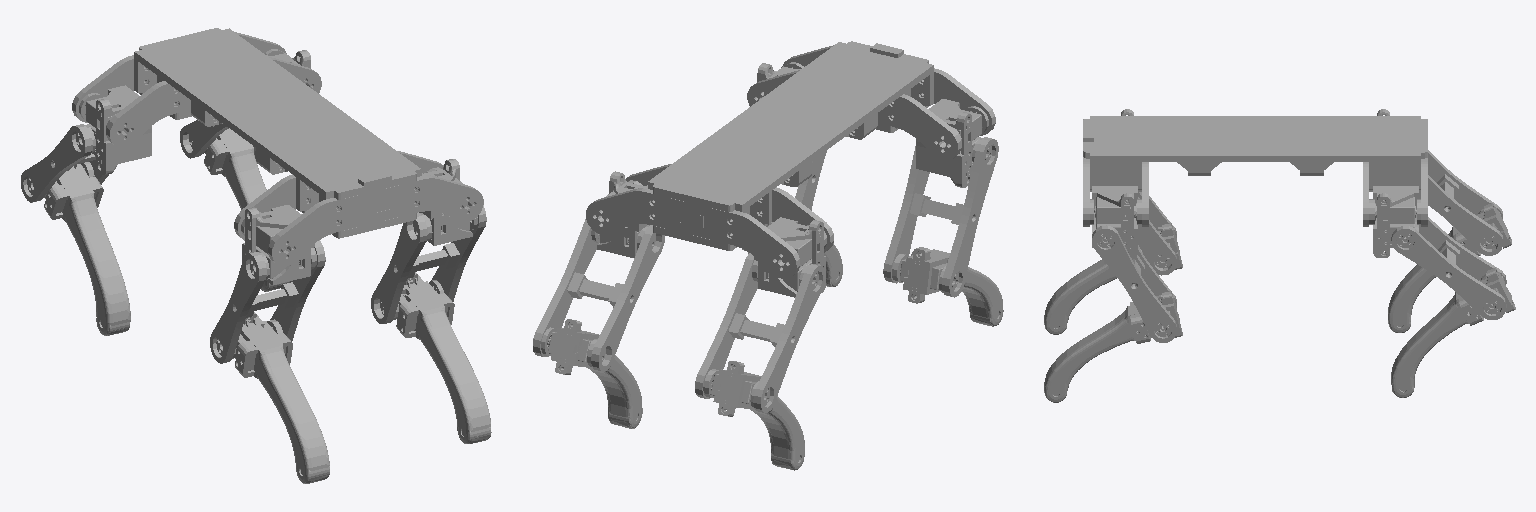
URDF robot description (Robotic_dog):
<?xml version="1.0"?>
<robot name="Robotic_dog">

  <link name="base_link">
    <visual>
      <origin xyz="0 0 0" rpy="0 0 0" />
      <geometry>
        <mesh filename="package://dog_description/meshes/base_link.stl" />
      </geometry>
      <material name="silver">
        <color rgba="0.70000000 0.70000000 0.70000000 1.00000000"/>
      </material>
    </visual>
    <collision>
      <origin xyz="0 0 0" rpy="0 0 0" />
      <geometry>
        <mesh filename="package://dog_description/meshes/base_link.stl" />
      </geometry>
    </collision>
    <inertial>
      <origin xyz="-0.019782 -0.2317164 0.0093415" rpy="0 0 0" />
      <mass value="0.0014068" />
      <inertia ixx="0" ixy="0" ixz="0" iyy="0" iyz="0" izz="0" />
    </inertial>
  </link>

  <link name="main_body_1">
    <visual>
      <origin xyz="0.019782 0.237433 -0.007342" rpy="0 0 0" />
      <geometry>
        <mesh filename="package://dog_description/meshes/main_body_1.stl" />
      </geometry>
      <material name="silver">
        <color rgba="0.70000000 0.70000000 0.70000000 1.00000000"/>
      </material>
    </visual>
    <collision>
      <origin xyz="0.019782 0.237433 -0.007342" rpy="0 0 0" />
      <geometry>
        <mesh filename="package://dog_description/meshes/main_body_1.stl" />
      </geometry>
    </collision>
    <inertial>
      <origin xyz="0 0.1820125 -0.0181781" rpy="0 0 0" />
      <mass value="0.757692" />
      <inertia ixx="0.012023" ixy="0" ixz="0" iyy="0.001511" iyz="0" izz="0.013198" />
    </inertial>
  </link>

  <link name="left_front_shoulder_1">
    <visual>
      <origin xyz="0.114782 0.230433 0.037158" rpy="0 0 0" />
      <geometry>
        <mesh filename="package://dog_description/meshes/left_front_shoulder_1.stl" />
      </geometry>
      <material name="silver">
        <color rgba="0.70000000 0.70000000 0.70000000 1.00000000"/>
      </material>
    </visual>
    <collision>
      <origin xyz="0.114782 0.230433 0.037158" rpy="0 0 0" />
      <geometry>
        <mesh filename="package://dog_description/meshes/left_front_shoulder_1.stl" />
      </geometry>
    </collision>
    <inertial>
      <origin xyz="0.0107761 0.0280345 -0.0122881" rpy="0 0 0" />
      <mass value="0.1065874" />
      <inertia ixx="0.000045" ixy="0.000002" ixz="-0.000002" iyy="0.000045" iyz="0" izz="0.000039" />
    </inertial>
  </link>

  <link name="left_front_thigh_1">
    <visual>
      <origin xyz="0.131492 0.213723 0.060248" rpy="0 0 0" />
      <geometry>
        <mesh filename="package://dog_description/meshes/left_front_thigh_1.stl" />
      </geometry>
      <material name="silver">
        <color rgba="0.70000000 0.70000000 0.70000000 1.00000000"/>
      </material>
    </visual>
    <collision>
      <origin xyz="0.131492 0.213723 0.060248" rpy="0 0 0" />
      <geometry>
        <mesh filename="package://dog_description/meshes/left_front_thigh_1.stl" />
      </geometry>
    </collision>
    <inertial>
      <origin xyz="0.0272695 -0.0600465 0.0000462" rpy="0 0 0" />
      <mass value="0.068327" />
      <inertia ixx="0.000117" ixy="0" ixz="0" iyy="0.000061" iyz="0" izz="0.000171" />
    </inertial>
  </link>

  <link name="left_front_shank_1">
    <visual>
      <origin xyz="0.131492 0.333723 0.060248" rpy="0 0 0" />
      <geometry>
        <mesh filename="package://dog_description/meshes/left_front_shank_1.stl" />
      </geometry>
      <material name="silver">
        <color rgba="0.70000000 0.70000000 0.70000000 1.00000000"/>
      </material>
    </visual>
    <collision>
      <origin xyz="0.027067 -0.056576 -0.02" rpy="-0.0159405 1.166513 1.5578845" />
      <geometry>
        <cylinder radius="0.013" length="0.1" />
      </geometry>
    </collision>
    <collision>
      <origin xyz="0.026802 -0.109 -0.05026" rpy="-0.5075351 0 0" />
      <geometry>
        <cylinder radius="0.013" length="0.031493" />
      </geometry>
    </collision>
    <inertial>
      <origin xyz="0.0267424 -0.0493228 -0.0196025" rpy="0 0 0" />
      <mass value="0.1292148" />
      <inertia ixx="0.000333" ixy="0" ixz="0" iyy="0.000091" iyz="-0.000127" izz="0.000267" />
    </inertial>
  </link>

  <link name="left_front_foot_link">
    <visual>
      <origin xyz="0.026802 -0.121 -0.0715" rpy="-1.5707963 0 -1.5707963" />
      <geometry>
        <cylinder radius="0.0122" length="0.021493" />
      </geometry>
      <material name="silver">
        <color rgba="0.70000000 0.70000000 0.70000000 1.00000000"/>
      </material>
    </visual>
    <collision name="left_front_foot_collision">
      <origin xyz="0.026802 -0.121 -0.069" rpy="-1.5707963 0 -1.5707963" />
      <geometry>
        <sphere radius="0.0135" />
      </geometry>
    </collision>
    <inertial>
      <origin xyz="0.026802 -0.121 -0.0715" rpy="0 0 0" />
      <mass value="0.01" />
      <inertia ixx="0.000001" ixy="0" ixz="0" iyy="0.000001" iyz="0" izz="0.000001" />
    </inertial>
  </link>

  <link name="left_after_shoulder_1">
    <visual>
      <origin xyz="0.114782 -0.119567 0.037158" rpy="0 0 0" />
      <geometry>
        <mesh filename="package://dog_description/meshes/left_after_shoulder_1.stl" />
      </geometry>
      <material name="silver">
        <color rgba="0.70000000 0.70000000 0.70000000 1.00000000"/>
      </material>
    </visual>
    <collision>
      <origin xyz="0.114782 -0.119567 0.037158" rpy="0 0 0" />
      <geometry>
        <mesh filename="package://dog_description/meshes/left_after_shoulder_1.stl" />
      </geometry>
    </collision>
    <inertial>
      <origin xyz="0.0107761 -0.0280341 -0.0122881" rpy="0 0 0" />
      <mass value="0.1065874" />
      <inertia ixx="0.000045" ixy="-0.000002" ixz="-0.000002" iyy="0.000045" iyz="0" izz="0.000039" />
    </inertial>
  </link>

  <link name="left_after_thigh_1">
    <visual>
      <origin xyz="0.131492 -0.102857 0.060248" rpy="0 0 0" />
      <geometry>
        <mesh filename="package://dog_description/meshes/left_after_thigh_1.stl" />
      </geometry>
      <material name="silver">
        <color rgba="0.70000000 0.70000000 0.70000000 1.00000000"/>
      </material>
    </visual>
    <collision>
      <origin xyz="0.131492 -0.102857 0.060248" rpy="0 0 0" />
      <geometry>
        <mesh filename="package://dog_description/meshes/left_after_thigh_1.stl" />
      </geometry>
    </collision>
    <inertial>
      <origin xyz="0.0272695 -0.0600465 0.0000462" rpy="0 0 0" />
      <mass value="0.068327" />
      <inertia ixx="0.000117" ixy="0" ixz="0" iyy="0.000061" iyz="0" izz="0.000171" />
    </inertial>
  </link>

  <link name="left_after_shank_1">
    <visual>
      <origin xyz="0.131492 0.017143 0.060248" rpy="0 0 0" />
      <geometry>
        <mesh filename="package://dog_description/meshes/left_after_shank_1.stl" />
      </geometry>
      <material name="silver">
        <color rgba="0.70000000 0.70000000 0.70000000 1.00000000"/>
      </material>
    </visual>
    <collision>
      <origin xyz="0.027067 -0.056576 -0.02" rpy="-0.0159405 1.166513 1.5578845" />
      <geometry>
        <cylinder radius="0.013" length="0.1" />
      </geometry>
    </collision>
    <collision>
      <origin xyz="0.026802 -0.109 -0.05026" rpy="-0.5075351 0 0" />
      <geometry>
        <cylinder radius="0.013" length="0.031493" />
      </geometry>
    </collision>
    <inertial>
      <origin xyz="0.0267424 -0.0493228 -0.0196025" rpy="0 0 0" />
      <mass value="0.1292148" />
      <inertia ixx="0.000333" ixy="0" ixz="0" iyy="0.000091" iyz="-0.000127" izz="0.000267" />
    </inertial>
  </link>

  <link name="left_after_foot_link">
    <visual>
      <origin xyz="0.026802 -0.121 -0.0715" rpy="-1.5707963 0 -1.5707963" />
      <geometry>
        <cylinder radius="0.0122" length="0.021493" />
      </geometry>
      <material name="silver">
        <color rgba="0.70000000 0.70000000 0.70000000 1.00000000"/>
      </material>
    </visual>
    <collision name="left_after_foot_collision">
      <origin xyz="0.026802 -0.121 -0.069" rpy="-1.5707963 0 -1.5707963" />
      <geometry>
        <sphere radius="0.0135" />
      </geometry>
    </collision>
    <inertial>
      <origin xyz="0.026802 -0.121 -0.0715" rpy="0 0 0" />
      <mass value="0.01" />
      <inertia ixx="0.000001" ixy="0" ixz="0" iyy="0.000001" iyz="0" izz="0.000001" />
    </inertial>
  </link>

  <link name="right_front_shoulder_1">
    <visual>
      <origin xyz="-0.075218 0.230433 0.037158" rpy="0 0 0" />
      <geometry>
        <mesh filename="package://dog_description/meshes/right_front_shoulder_1.stl" />
      </geometry>
      <material name="silver">
        <color rgba="0.70000000 0.70000000 0.70000000 1.00000000"/>
      </material>
    </visual>
    <collision>
      <origin xyz="-0.075218 0.230433 0.037158" rpy="0 0 0" />
      <geometry>
        <mesh filename="package://dog_description/meshes/right_front_shoulder_1.stl" />
      </geometry>
    </collision>
    <inertial>
      <origin xyz="-0.0107762 0.0280345 -0.0122881" rpy="0 0 0" />
      <mass value="0.1065874" />
      <inertia ixx="0.000045" ixy="-0.000002" ixz="0.000002" iyy="0.000045" iyz="0" izz="0.000039" />
    </inertial>
  </link>

  <link name="right_front_thigh_1">
    <visual>
      <origin xyz="-0.091928 0.213723 0.060248" rpy="0 0 0" />
      <geometry>
        <mesh filename="package://dog_description/meshes/right_front_thigh_1.stl" />
      </geometry>
      <material name="silver">
        <color rgba="0.70000000 0.70000000 0.70000000 1.00000000"/>
      </material>
    </visual>
    <collision>
      <origin xyz="-0.091928 0.213723 0.060248" rpy="0 0 0" />
      <geometry>
        <mesh filename="package://dog_description/meshes/right_front_thigh_1.stl" />
      </geometry>
    </collision>
    <inertial>
      <origin xyz="-0.0272696 -0.0600465 0.0000462" rpy="0 0 0" />
      <mass value="0.068327" />
      <inertia ixx="0.000117" ixy="0" ixz="0" iyy="0.000061" iyz="0" izz="0.000171" />
    </inertial>
  </link>

  <link name="right_front_shank_1">
    <visual>
      <origin xyz="-0.091928 0.333723 0.060248" rpy="0 0 0" />
      <geometry>
        <mesh filename="package://dog_description/meshes/right_front_shank_1.stl" />
      </geometry>
      <material name="silver">
        <color rgba="0.70000000 0.70000000 0.70000000 1.00000000"/>
      </material>
    </visual>
    <collision>
      <origin xyz="-0.0275 -0.056576 -0.02" rpy="-0.0159405 1.166513 1.5578845" />
      <geometry>
        <cylinder radius="0.013" length="0.1" />
      </geometry>
    </collision>
    <collision>
      <origin xyz="-0.0275 -0.109 -0.05026" rpy="-0.5075351 0 0" />
      <geometry>
        <cylinder radius="0.013" length="0.031493" />
      </geometry>
    </collision>
    <inertial>
      <origin xyz="-0.0267425 -0.0493228 -0.0196025" rpy="0 0 0" />
      <mass value="0.1292148" />
      <inertia ixx="0.000333" ixy="0" ixz="0" iyy="0.000091" iyz="-0.000127" izz="0.000267" />
    </inertial>
  </link>

  <link name="right_front_foot_link">
    <visual>
      <origin xyz="-0.0275 -0.121 -0.0715" rpy="-1.5707963 0 -1.5707963" />
      <geometry>
        <cylinder radius="0.0122" length="0.021493" />
      </geometry>
      <material name="silver">
        <color rgba="0.70000000 0.70000000 0.70000000 1.00000000"/>
      </material>
    </visual>
    <collision name="right_front_foot_collision">
      <origin xyz="-0.0275 -0.121 -0.069" rpy="-1.5707963 0 -1.5707963" />
      <geometry>
        <sphere radius="0.0135" />
      </geometry>
    </collision>
    <inertial>
      <origin xyz="-0.0275 -0.121 -0.0715" rpy="0 0 0" />
      <mass value="0.01" />
      <inertia ixx="0.000001" ixy="0" ixz="0" iyy="0.000001" iyz="0" izz="0.000001" />
    </inertial>
  </link>

  <link name="right_after_shoulder_1">
    <visual>
      <origin xyz="-0.075218 -0.119567 0.037158" rpy="0 0 0" />
      <geometry>
        <mesh filename="package://dog_description/meshes/right_after_shoulder_1.stl" />
      </geometry>
      <material name="silver">
        <color rgba="0.70000000 0.70000000 0.70000000 1.00000000"/>
      </material>
    </visual>
    <collision>
      <origin xyz="-0.075218 -0.119567 0.037158" rpy="0 0 0" />
      <geometry>
        <mesh filename="package://dog_description/meshes/right_after_shoulder_1.stl" />
      </geometry>
    </collision>
    <inertial>
      <origin xyz="-0.0107762 -0.0280341 -0.0122881" rpy="0 0 0" />
      <mass value="0.1065874" />
      <inertia ixx="0.000045" ixy="0.000002" ixz="0.000002" iyy="0.000045" iyz="0" izz="0.000039" />
    </inertial>
  </link>

  <link name="right_after_thigh_1">
    <visual>
      <origin xyz="-0.091928 -0.102857 0.060248" rpy="0 0 0" />
      <geometry>
        <mesh filename="package://dog_description/meshes/right_after_thigh_1.stl" />
      </geometry>
      <material name="silver">
        <color rgba="0.70000000 0.70000000 0.70000000 1.00000000"/>
      </material>
    </visual>
    <collision>
      <origin xyz="-0.091928 -0.102857 0.060248" rpy="0 0 0" />
      <geometry>
        <mesh filename="package://dog_description/meshes/right_after_thigh_1.stl" />
      </geometry>
    </collision>
    <inertial>
      <origin xyz="-0.0272696 0.0600469 -0.0000472" rpy="0 0 0" />
      <mass value="0.068327" />
      <inertia ixx="0.000117" ixy="0" ixz="0" iyy="0.000061" iyz="0" izz="0.000171" />
    </inertial>
  </link>

  <link name="right_after_shank_1">
    <visual>
      <origin xyz="-0.091928 -0.222857 0.060248" rpy="0 0 0" />
      <geometry>
        <mesh filename="package://dog_description/meshes/right_after_shank_1.stl" />
      </geometry>
      <material name="silver">
        <color rgba="0.70000000 0.70000000 0.70000000 1.00000000"/>
      </material>
    </visual>
    <collision>
      <origin xyz="-0.0275 -0.056576 -0.02" rpy="-0.0159405 1.166513 1.5578845" />
      <geometry>
        <cylinder radius="0.013" length="0.1" />
      </geometry>
    </collision>
    <collision>
      <origin xyz="-0.0275 -0.109 -0.05026" rpy="-0.5075351 0 0" />
      <geometry>
        <cylinder radius="0.013" length="0.031493" />
      </geometry>
    </collision>
    <inertial>
      <origin xyz="-0.0267425 -0.0493227 -0.0196025" rpy="0 0 0" />
      <mass value="0.1292148" />
      <inertia ixx="0.000333" ixy="0" ixz="0" iyy="0.000091" iyz="-0.000127" izz="0.000267" />
    </inertial>
  </link>

  <link name="right_after_foot_link">
    <visual>
      <origin xyz="-0.0275 -0.121 -0.0715" rpy="-1.5707963 0 -1.5707963" />
      <geometry>
        <cylinder radius="0.0122" length="0.021493" />
      </geometry>
      <material name="silver">
        <color rgba="0.70000000 0.70000000 0.70000000 1.00000000"/>
      </material>
    </visual>
    <collision name="right_after_foot_collision">
      <origin xyz="-0.0275 -0.121 -0.069" rpy="-1.5707963 0 -1.5707963" />
      <geometry>
        <sphere radius="0.0135" />
      </geometry>
    </collision>
    <inertial>
      <origin xyz="-0.0275 -0.121 -0.0715" rpy="0 0 0" />
      <mass value="0.01" />
      <inertia ixx="0.000001" ixy="0" ixz="0" iyy="0.000001" iyz="0" izz="0.000001" />
    </inertial>
  </link>

  <joint name="left_front_foot_joint" type="fixed" dont_collapse="true">
    <parent link="left_front_shank_1" />
    <child link="left_front_foot_link" />
    <origin xyz="0 0 0" rpy="0 0 0" />
  </joint>

  <joint name="left_after_foot_joint" type="fixed" dont_collapse="true">
    <parent link="left_after_shank_1" />
    <child link="left_after_foot_link" />
    <origin xyz="0 0 0" rpy="0 0 0" />
  </joint>

  <joint name="right_front_foot_joint" type="fixed" dont_collapse="true">
    <parent link="right_front_shank_1" />
    <child link="right_front_foot_link" />
    <origin xyz="0 0 0" rpy="0 0 0" />
  </joint>

  <joint name="right_after_foot_joint" type="fixed" dont_collapse="true">
    <parent link="right_after_shank_1" />
    <child link="right_after_foot_link" />
    <origin xyz="0 0 0" rpy="0 0 0" />
  </joint>

  <joint name="rigid_main_link_joint" type="fixed">
    <parent link="base_link" />
    <child link="main_body_1" />
    <origin xyz="-0.019782 -0.237433 0.007342" rpy="0 0 0" />
  </joint>

  <joint name="rotate_left_front_shoulder_joint" type="revolute">
    <parent link="main_body_1" />
    <child link="left_front_shoulder_1" />
    <origin xyz="-0.095 0.007 -0.0445" rpy="0 0 0" />
    <axis xyz="0 1 0" />
    <limit lower="-0.3745329" upper="1" effort="2.5" velocity="5" />
  </joint>

  <joint name="rotate_left_front_thigh_joint" type="revolute">
    <parent link="left_front_shoulder_1" />
    <child link="left_front_thigh_1" />
    <origin xyz="-0.01671 0.01671 -0.02309" rpy="2.1 0 0" />
    <axis xyz="-1 0 0" />
    <limit lower="-0.83" upper="1.7" effort="2.5" velocity="5" />
  </joint>

  <joint name="rotate_left_front_shank_joint" type="revolute">
    <parent link="left_front_thigh_1" />
    <child link="left_front_shank_1" />
    <origin xyz="0 -0.12 0" rpy="-2 0 0" />
    <axis xyz="1 0 0" />
    <limit lower="-0.9" upper="1.3962634" effort="2.5" velocity="5" />
  </joint>

  <joint name="rotate_left_after_shoulder_joint" type="revolute">
    <parent link="main_body_1" />
    <child link="left_after_shoulder_1" />
    <origin xyz="-0.095 0.357 -0.0445" rpy="0 0 0" />
    <axis xyz="0 1 0" />
    <limit lower="-0.274" upper="1" effort="2.5" velocity="5" />
  </joint>

  <joint name="rotate_left_after_thigh_joint" type="revolute">
    <parent link="left_after_shoulder_1" />
    <child link="left_after_thigh_1" />
    <origin xyz="-0.01671 -0.01671 -0.02309" rpy="2.4 0 0" />
    <axis xyz="-1 0 0" />
    <limit lower="-0.49" upper="2" effort="2.5" velocity="5" />
  </joint>

  <joint name="rotate_left_after_shank_joint" type="revolute">
    <parent link="left_after_thigh_1" />
    <child link="left_after_shank_1" />
    <origin xyz="0 -0.12 0" rpy="-2.1 0 0" />
    <axis xyz="1 0 0" />
    <limit lower="-0.9" upper="1.3962634" effort="2.5" velocity="5" />
  </joint>

  <joint name="rotate_right_front_shoulder_joint" type="revolute">
    <parent link="main_body_1" />
    <child link="right_front_shoulder_1" />
    <origin xyz="0.095 0.007 -0.0445" rpy="0 0 0" />
    <axis xyz="0 -1 0" />
    <limit lower="-0.1745329" upper="1" effort="2.5" velocity="5" />
  </joint>

  <joint name="rotate_right_front_thigh_joint" type="revolute">
    <parent link="right_front_shoulder_1" />
    <child link="right_front_thigh_1" />
    <origin xyz="0.01671 0.01671 -0.02309" rpy="2.1 0 0" />
    <axis xyz="-1 0 0" />
    <limit lower="-0.69" upper="1.5" effort="2.5" velocity="5" />
  </joint>

  <joint name="rotate_right_front_shank_joint" type="revolute">
    <parent link="right_front_thigh_1" />
    <child link="right_front_shank_1" />
    <origin xyz="0 -0.12 0" rpy="-2 0 0" />
    <axis xyz="1 0 0" />
    <limit lower="-1" upper="1.3962634" effort="2.5" velocity="5" />
  </joint>

  <joint name="rotate_right_after_shoulder_joint" type="revolute">
    <parent link="main_body_1" />
    <child link="right_after_shoulder_1" />
    <origin xyz="0.095 0.357 -0.0445" rpy="0 0 0" />
    <axis xyz="0 -1 0" />
    <limit lower="-0.3" upper="1" effort="2.5" velocity="5" />
  </joint>

  <joint name="rotate_right_after_thigh_joint" type="revolute">
    <parent link="right_after_shoulder_1" />
    <child link="right_after_thigh_1" />
    <origin xyz="0.01671 -0.01671 -0.02309" rpy="-0.7 0 0" />
    <axis xyz="-1 0 0" />
    <limit lower="-0.45" upper="2" effort="2.5" velocity="5" />
  </joint>

  <joint name="rotate_right_after_shank_joint" type="revolute">
    <parent link="right_after_thigh_1" />
    <child link="right_after_shank_1" />
    <origin xyz="0 0.12 0" rpy="1 0 0" />
    <axis xyz="1 0 0" />
    <limit lower="-0.9" upper="1.3962634" effort="2.5" velocity="5" />
  </joint>

</robot>

--- Render facts (derived) ---
3 views of the same robot in one strip: view 1: azimuth 30°, elevation 25°; view 2: azimuth 150°, elevation 25°; view 3: azimuth 270°, elevation 25° (orthographic).
Model Robotic_dog with 18 links and 17 joints (12 revolute, 5 fixed), rooted at base_link, posed every joint at zero.
Visible links, largest first — view 1: main_body_1, left_front_shank_1, right_front_shank_1, left_after_shank_1, left_front_thigh_1, right_front_thigh_1, left_after_thigh_1, right_after_shank_1, left_after_shoulder_1, left_front_shoulder_1, right_front_shoulder_1, right_after_thigh_1; view 2: main_body_1, left_after_thigh_1, right_after_thigh_1, left_front_thigh_1, left_after_shank_1, right_after_shank_1, left_front_shank_1, left_front_shoulder_1, left_after_shoulder_1, right_after_shoulder_1, right_front_thigh_1, right_front_shank_1; view 3: main_body_1, right_after_thigh_1, right_front_thigh_1, right_front_shank_1, left_after_thigh_1, right_after_shank_1, left_front_shank_1, left_after_shank_1, right_after_shoulder_1, right_front_shoulder_1, left_front_thigh_1.
Boxes of the visible links, x1,y1,x2,y2 form: main_body_1: [72, 28, 483, 266]; left_front_shank_1: [235, 312, 329, 483]; right_front_shank_1: [396, 272, 491, 443]; left_after_shank_1: [44, 164, 130, 335]; left_front_thigh_1: [210, 240, 325, 363]; right_front_thigh_1: [371, 205, 486, 323]; left_after_thigh_1: [21, 124, 108, 202]; right_after_shank_1: [204, 128, 289, 291]; left_after_shoulder_1: [84, 85, 151, 174]; left_front_shoulder_1: [242, 205, 314, 284]; right_front_shoulder_1: [419, 159, 472, 245]; right_after_thigh_1: [180, 120, 228, 158]; main_body_1: [586, 41, 995, 278]; left_after_thigh_1: [695, 253, 825, 412]; right_after_thigh_1: [533, 219, 664, 371]; left_front_thigh_1: [883, 137, 998, 297]; left_after_shank_1: [710, 361, 804, 470]; right_after_shank_1: [547, 319, 641, 428]; left_front_shank_1: [899, 247, 1003, 326]; left_front_shoulder_1: [916, 99, 983, 187]; left_after_shoulder_1: [754, 217, 825, 297]; right_after_shoulder_1: [597, 171, 649, 257]; right_front_thigh_1: [795, 150, 826, 210]; right_front_shank_1: [742, 222, 842, 286]; main_body_1: [1083, 116, 1427, 226]; right_after_thigh_1: [1391, 217, 1506, 319]; right_front_thigh_1: [1092, 225, 1176, 342]; right_front_shank_1: [1045, 291, 1182, 402]; left_after_thigh_1: [1419, 150, 1502, 255]; right_after_shank_1: [1391, 267, 1515, 397]; left_front_shank_1: [1045, 223, 1182, 334]; left_after_shank_1: [1388, 203, 1511, 332]; right_after_shoulder_1: [1373, 186, 1418, 257]; right_front_shoulder_1: [1092, 186, 1137, 257]; left_front_thigh_1: [1138, 192, 1176, 275].
Bounding box of the posed robot: 0.239 × 0.4976 × 0.2714 m (x, y, z).
14 mesh visuals loaded from 14 distinct referenced files (14 binary STL).
